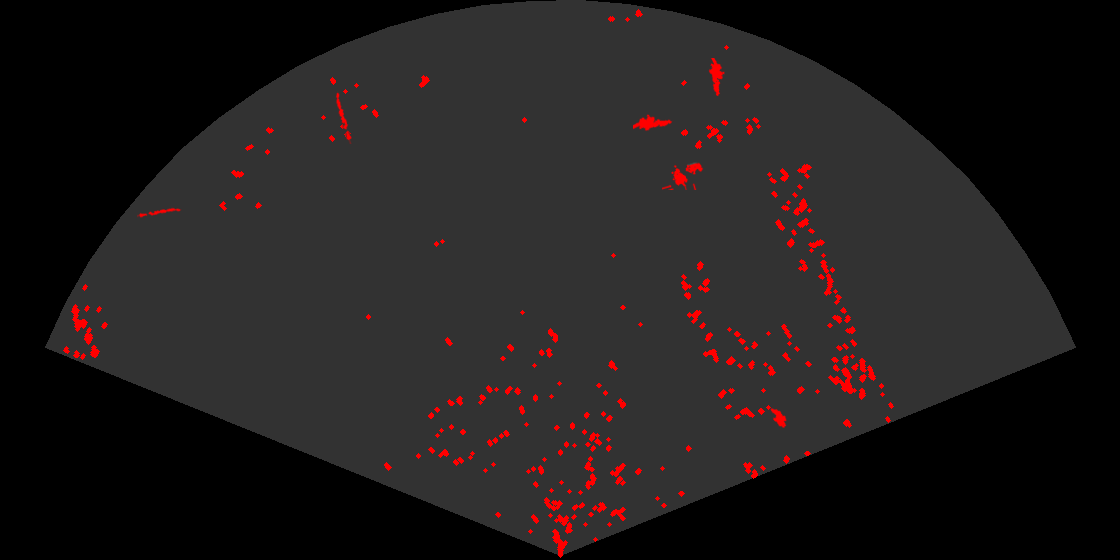AUV: (769, 406, 788, 430)
cage: (662, 161, 705, 190)
chain: (334, 91, 353, 144), (137, 206, 182, 219)
frogman: (633, 113, 674, 133), (707, 58, 726, 98)
